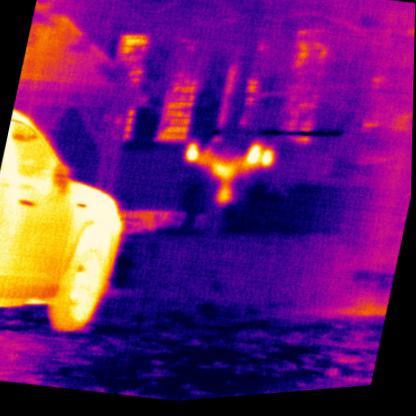drone: (177, 133, 276, 217)
